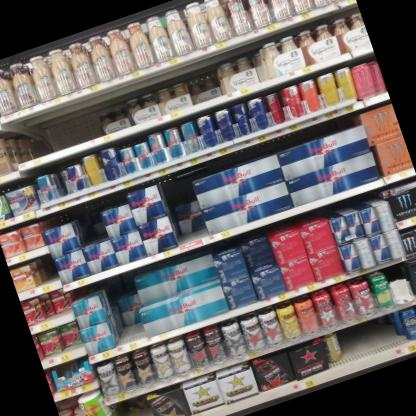empty_space: (12, 97, 106, 169), (337, 312, 402, 370)
